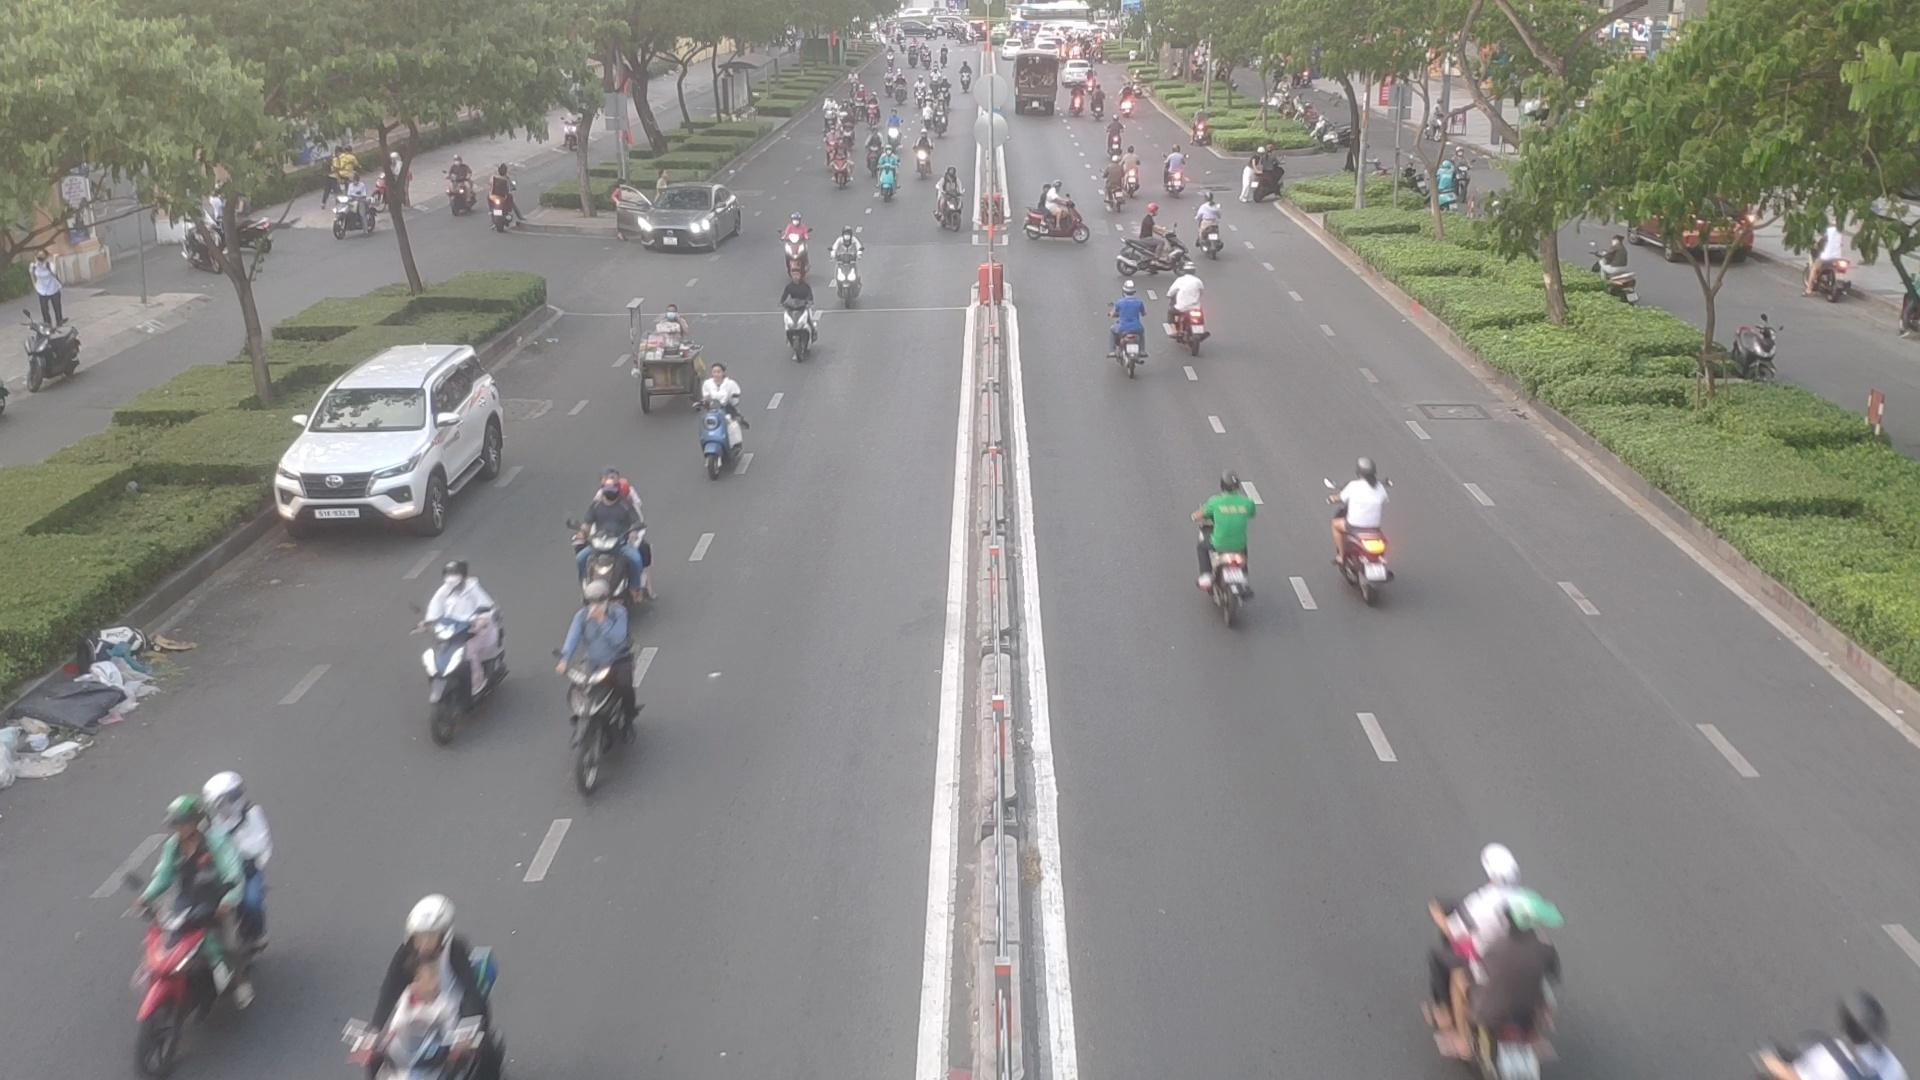car: (268, 343, 512, 535), (616, 187, 749, 258)
motorbike: (127, 769, 272, 1076), (1427, 844, 1573, 1080), (364, 880, 501, 1080), (560, 570, 641, 794), (423, 564, 500, 735), (568, 477, 647, 600), (1191, 484, 1259, 622), (691, 344, 746, 471), (1331, 508, 1396, 597), (1100, 284, 1154, 381), (774, 264, 818, 369), (1114, 206, 1184, 270), (820, 223, 866, 307), (1030, 179, 1077, 253), (1176, 258, 1204, 349), (930, 164, 967, 229), (1197, 193, 1229, 256), (1100, 149, 1134, 207), (873, 146, 903, 196), (829, 131, 851, 177), (1166, 146, 1185, 189), (909, 137, 931, 167)
